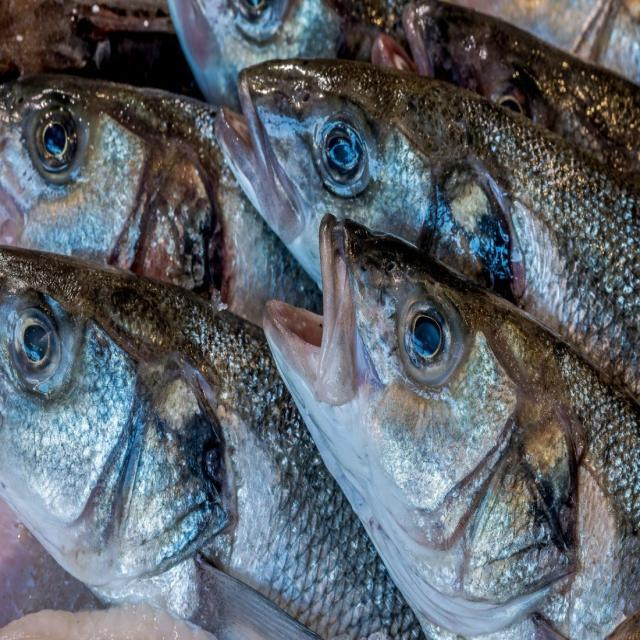fish: (0, 249, 418, 636), (263, 215, 638, 636), (215, 59, 638, 399), (0, 75, 320, 323), (401, 0, 638, 184), (167, 0, 341, 108)
